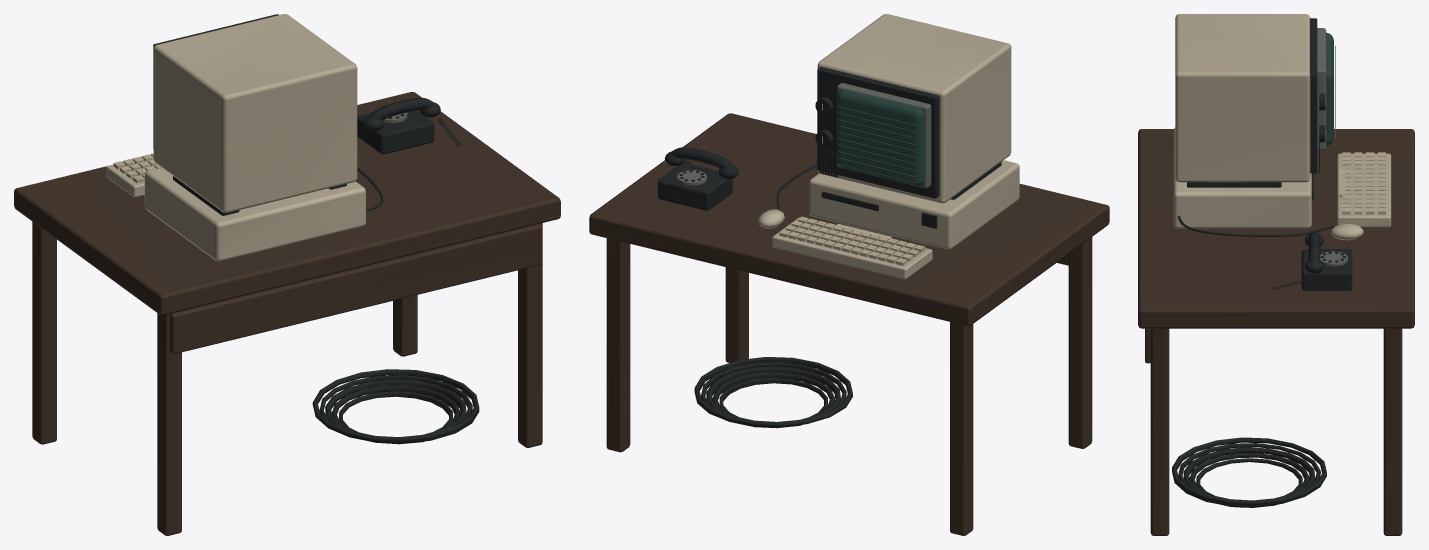
File: prop-computer-desk-v01.glb
3 views of the same model, side by side, from view 1: azimuth 30°, elevation 25°; view 2: azimuth 150°, elevation 25°; view 3: azimuth 270°, elevation 25° (orthographic). The views are drawn at different scales.
Parts seen in each view (by area): view 1: computer-desk; view 2: computer-desk; view 3: computer-desk.
Part boxes in pixels (bbox=[...]): computer-desk: bbox=[14, 14, 560, 535]; computer-desk: bbox=[589, 14, 1109, 535]; computer-desk: bbox=[1138, 14, 1414, 535].
Bounding box in the file's own units: 1.28 × 1.26 × 0.82.
